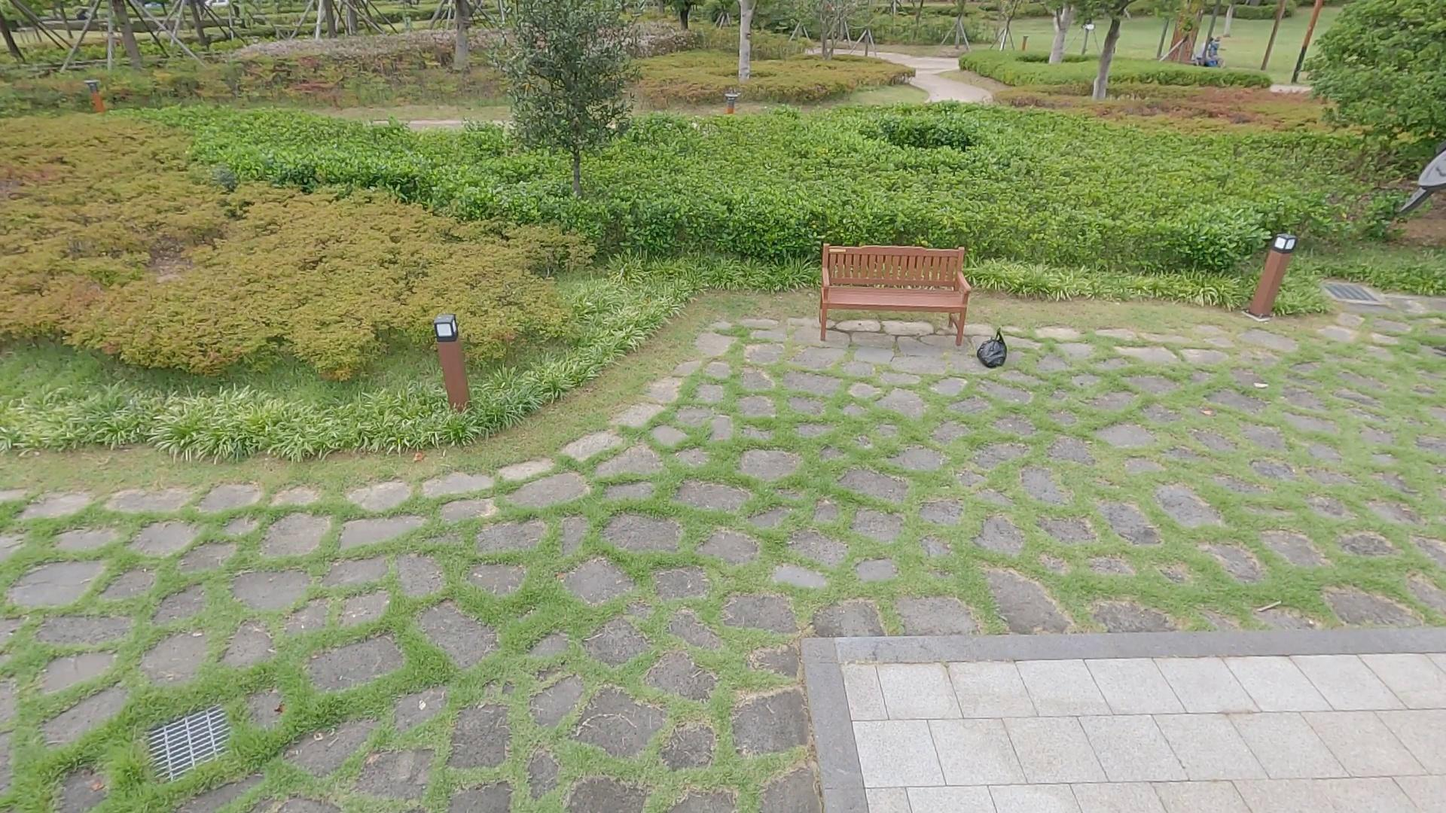trash: (977, 326, 1007, 367)
